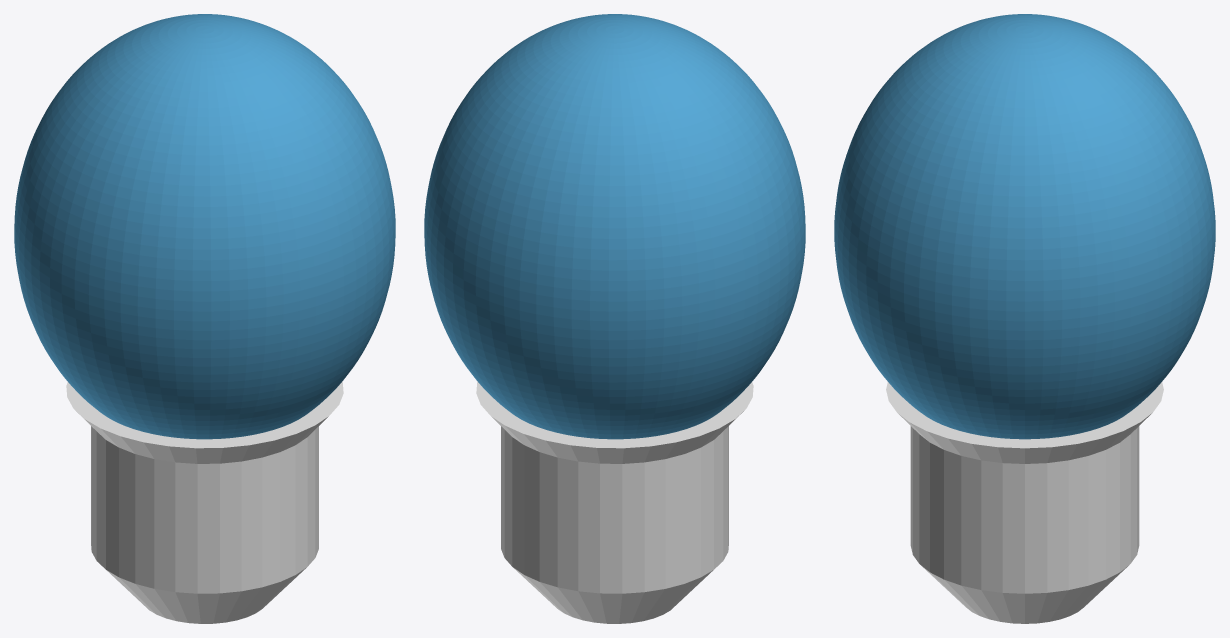
Rendered from Lightbulb.fbx.
The picture shows the model from 3 angles, left to right: view 1: azimuth 30°, elevation 25°; view 2: azimuth 150°, elevation 25°; view 3: azimuth 270°, elevation 25°; orthographic projection.
Parts seen in each view (by area): view 1: Sphere, Cylinder; view 2: Sphere, Cylinder; view 3: Sphere, Cylinder.
Boxes of the visible parts, x1,y1,x2,y2 form: Sphere: (14,14,395,439); Cylinder: (66,381,343,623); Sphere: (424,14,805,439); Cylinder: (476,381,753,623); Sphere: (834,14,1215,439); Cylinder: (886,382,1163,623).
Bounding box in the file's own units: 334 × 547 × 334.
